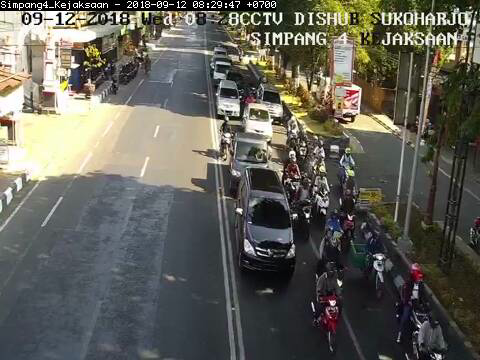motor: (308, 261, 346, 356), (392, 261, 430, 339), (359, 224, 391, 301), (318, 207, 345, 266), (292, 177, 314, 240), (310, 167, 332, 224), (337, 145, 357, 187), (283, 152, 300, 199)
